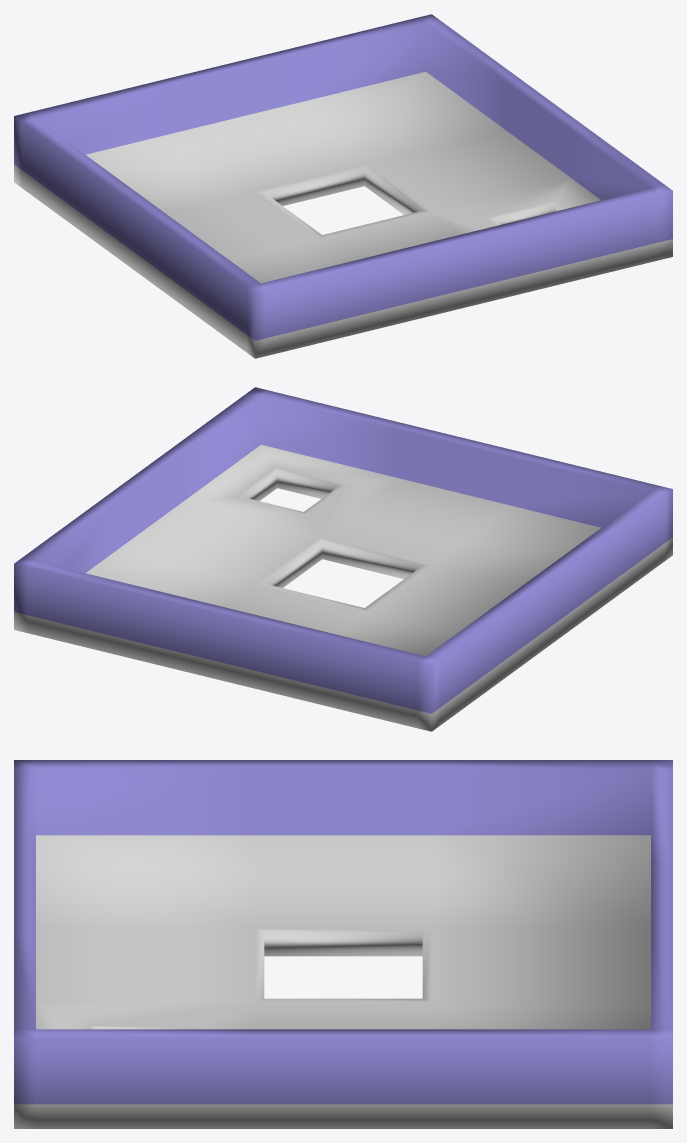
File: HolePlane.fbx
The picture shows the model from 3 angles, top to bottom: view 1: azimuth 30°, elevation 25°; view 2: azimuth 150°, elevation 25°; view 3: azimuth 270°, elevation 25°; orthographic projection. The views are drawn at different scales.
Visible parts, largest first — view 1: model_planehole; view 2: model_planehole; view 3: model_planehole.
Part boxes in pixels (x1,y1,x2,y2): model_planehole: (14,14,672,358); model_planehole: (14,387,672,731); model_planehole: (14,760,672,1128).
Bounding box in the file's own units: 3 × 0.4542 × 3.
